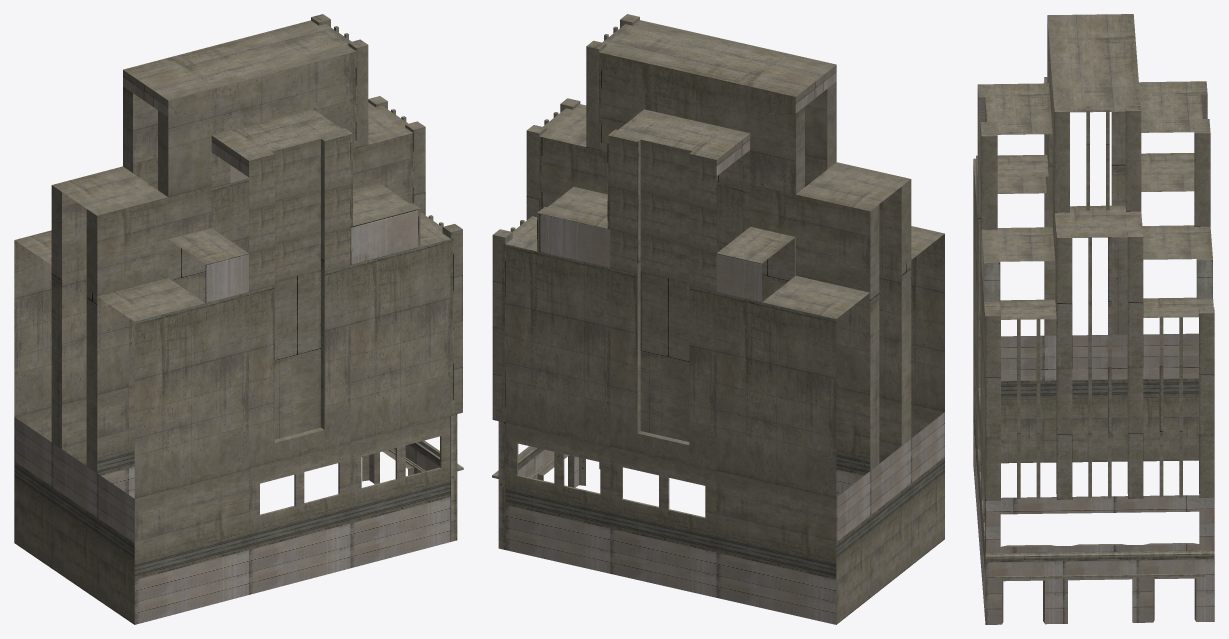
The model's file is downtown_artdeco_1_downtown_concrete_flr_1_0_lev3.glb.
3 views of the same model, side by side, from view 1: azimuth 30°, elevation 25°; view 2: azimuth 150°, elevation 25°; view 3: azimuth 270°, elevation 25° (orthographic).
Visible parts, largest first — view 1: downtown_artdeco_1_downtown_concrete_flr_1_0_lev3; view 2: downtown_artdeco_1_downtown_concrete_flr_1_0_lev3; view 3: downtown_artdeco_1_downtown_concrete_flr_1_0_lev3.
Part boxes in pixels (x1,y1,x2,y2): downtown_artdeco_1_downtown_concrete_flr_1_0_lev3: (14,14,463,624); downtown_artdeco_1_downtown_concrete_flr_1_0_lev3: (492,14,944,624); downtown_artdeco_1_downtown_concrete_flr_1_0_lev3: (973,14,1214,624).
Bounding box in the file's own units: 20.14 × 27.25 × 12.27.
Materials: 1 (1 with a texture image).
